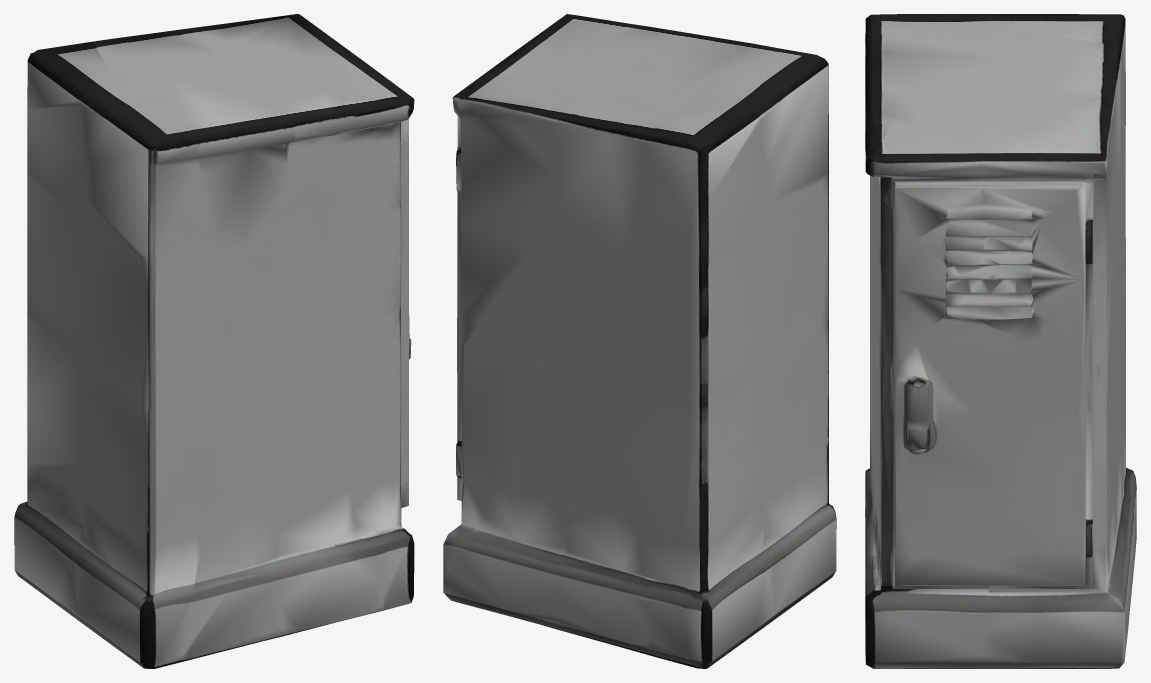
Rendered from locker.glb.
The picture shows the model from 3 angles, left to right: view 1: azimuth 30°, elevation 25°; view 2: azimuth 150°, elevation 25°; view 3: azimuth 270°, elevation 25°; orthographic projection. The views are drawn at different scales.
Parts seen in each view (by area): view 1: tripo_node_caf5e90f-8555-450a-940e-1e70fa3e81c9; view 2: tripo_node_caf5e90f-8555-450a-940e-1e70fa3e81c9; view 3: tripo_node_caf5e90f-8555-450a-940e-1e70fa3e81c9.
Part boxes in pixels (x1=…): tripo_node_caf5e90f-8555-450a-940e-1e70fa3e81c9: x1=14, y1=14, x2=414, y2=668; tripo_node_caf5e90f-8555-450a-940e-1e70fa3e81c9: x1=443, y1=14, x2=836, y2=668; tripo_node_caf5e90f-8555-450a-940e-1e70fa3e81c9: x1=865, y1=14, x2=1136, y2=668.
Size of the model in its own units: 0.5733 by 0.9999 by 0.4605.
Materials: 1 (1 with a texture image).
